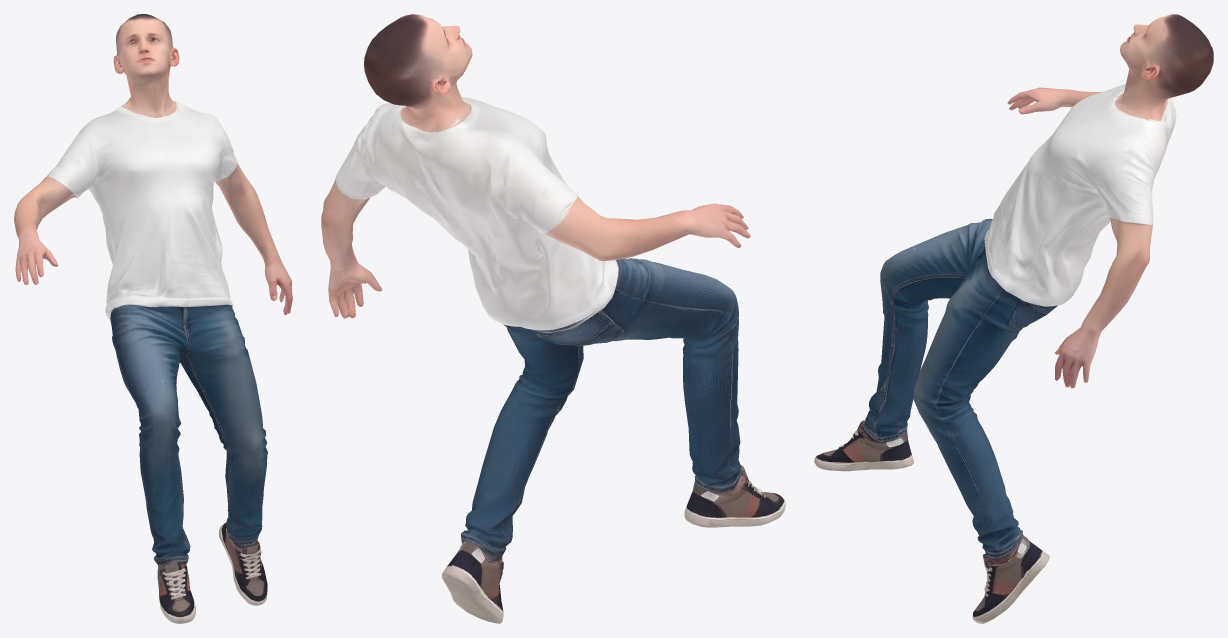
Rendered from human.glb.
3 views of the same model, side by side, from view 1: azimuth 30°, elevation 25°; view 2: azimuth 150°, elevation 25°; view 3: azimuth 270°, elevation 25° (orthographic). The views are drawn at different scales.
Parts seen in each view (by area): view 1: mesh_node; view 2: mesh_node; view 3: mesh_node.
Boxes of the visible parts, x1=… form: mesh_node: x1=14, y1=14, x2=292, y2=623; mesh_node: x1=321, y1=14, x2=785, y2=623; mesh_node: x1=814, y1=14, x2=1213, y2=623.
Bounding box in the file's own units: 1.09 × 1.9 × 1.17.
1 material, 1 textured.
